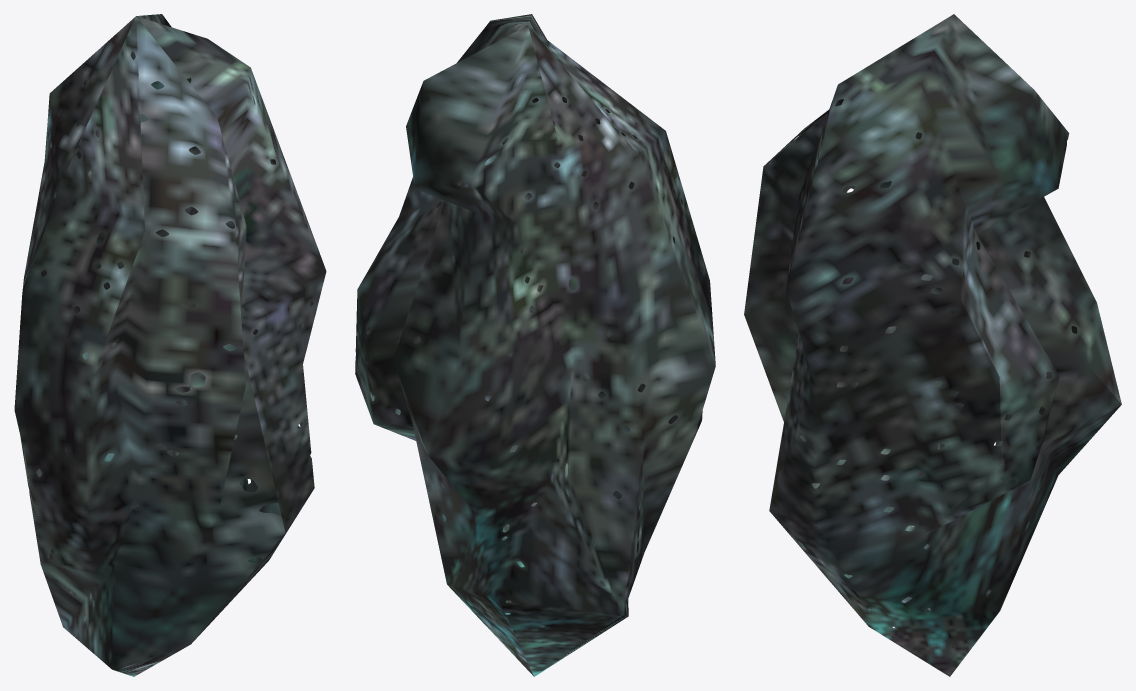
The model's file is 5st_cliff_hom03.fbx.
3 views of the same model, side by side, from view 1: azimuth 30°, elevation 25°; view 2: azimuth 150°, elevation 25°; view 3: azimuth 270°, elevation 25° (orthographic).
Parts seen in each view (by area): view 1: cliff_hom03; view 2: cliff_hom03; view 3: cliff_hom03.
Boxes of the visible parts, box(x1,y1,x2,y2) form: cliff_hom03: box(14, 14, 326, 676); cliff_hom03: box(355, 14, 715, 676); cliff_hom03: box(744, 14, 1121, 676).
Size of the model in its own units: 5.57 by 11.44 by 5.89.
